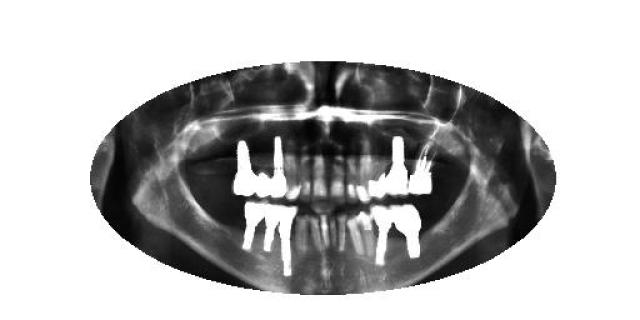Fillings: (369, 152, 386, 198), (258, 152, 272, 198)
Implant: (279, 206, 299, 282), (395, 205, 423, 259), (408, 139, 434, 196), (234, 140, 258, 196), (371, 206, 394, 264), (387, 138, 408, 198), (241, 202, 265, 252), (270, 134, 286, 198), (261, 202, 279, 252)
